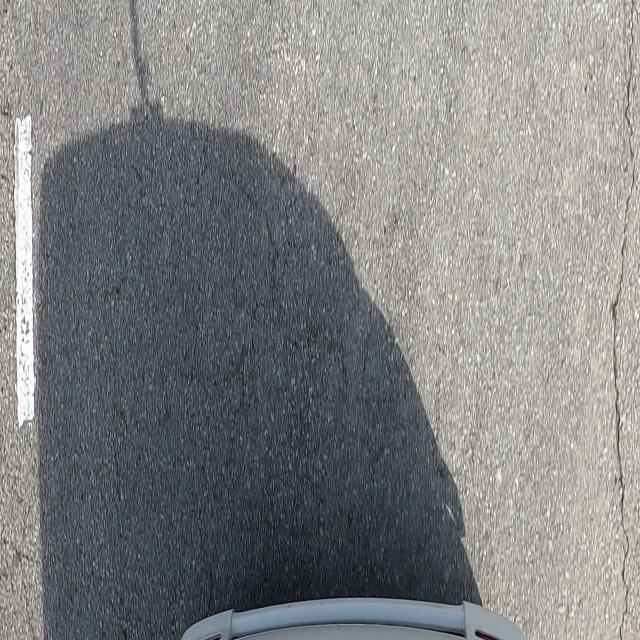Retak-Memanjang: (610, 0, 638, 640)
